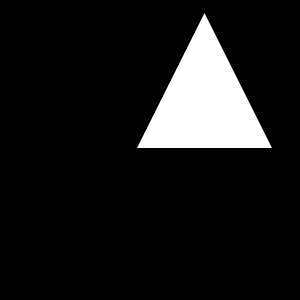triangle: (137, 13, 272, 148)
